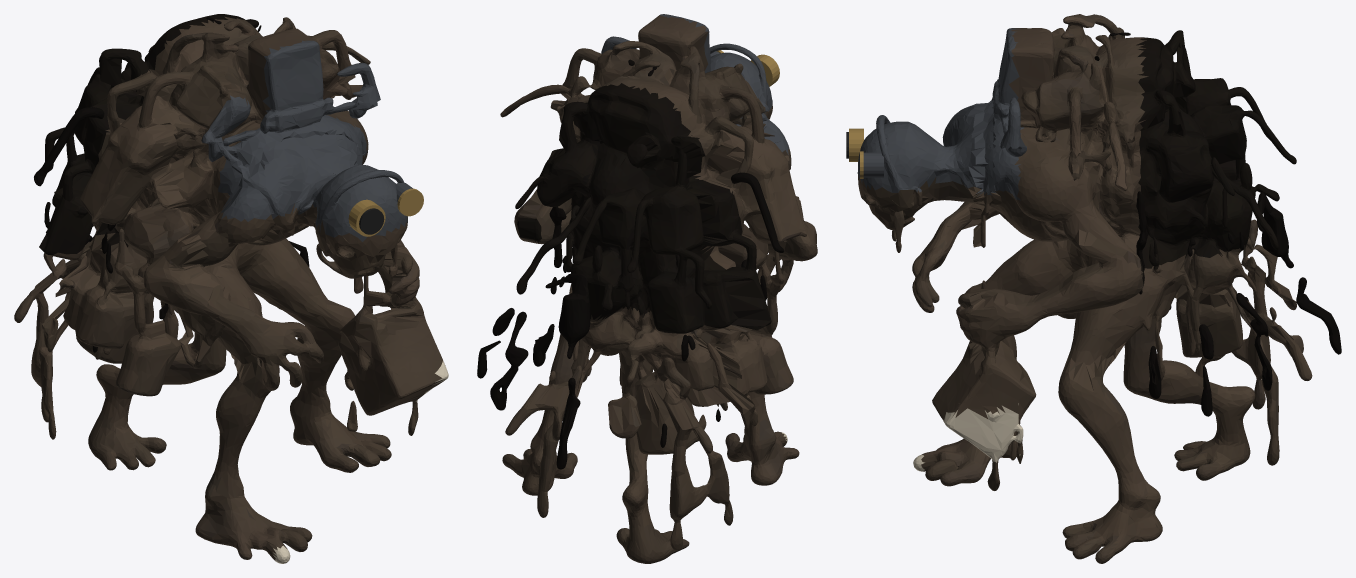
Rendered from collector_generated_v2.glb.
The picture shows the model from 3 angles, left to right: view 1: azimuth 30°, elevation 25°; view 2: azimuth 150°, elevation 25°; view 3: azimuth 270°, elevation 25°; orthographic projection. The views are drawn at different scales.
Visible parts, largest first — view 1: Collector_Generated; view 2: Collector_Generated; view 3: Collector_Generated.
Part boxes in pixels (box(x1,y1,x2,y2)): Collector_Generated: box(14, 14, 448, 563); Collector_Generated: box(477, 14, 817, 563); Collector_Generated: box(846, 14, 1341, 563).
Bounding box in the file's own units: 1.44 × 2 × 1.94.
7 materials, 3 textured.
